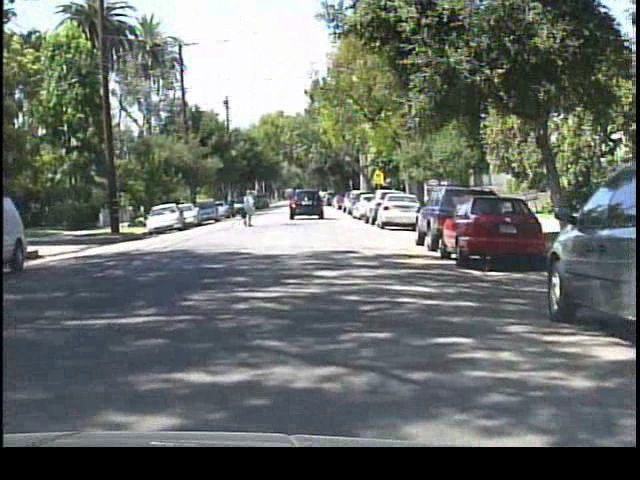person: (237, 180, 260, 225)
